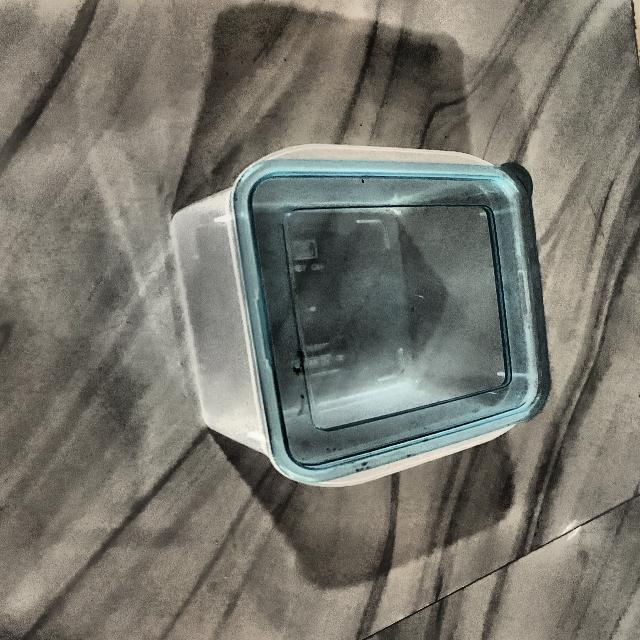plastic container: (176, 116, 545, 489)
